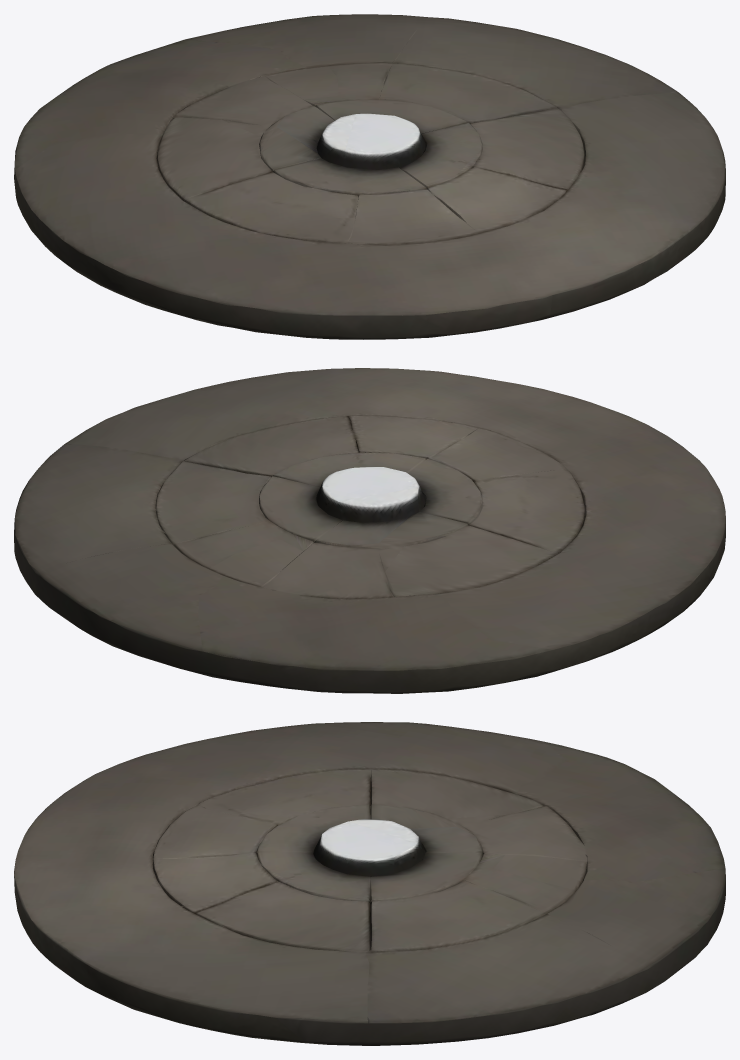
File: m2CheckpointFlagPadV2.glb
3 views of the same model, one above another, from view 1: azimuth 30°, elevation 25°; view 2: azimuth 150°, elevation 25°; view 3: azimuth 270°, elevation 25° (orthographic).
Parts seen in each view (by area): view 1: model; view 2: model; view 3: model.
Part boxes in pixels (x1,y1,x2,y2): model: [14, 14, 725, 339]; model: [14, 368, 725, 693]; model: [14, 722, 725, 1045].
Bounding box in the file's own units: 1.9 × 0.2075 × 1.9.
1 material, 1 textured.
